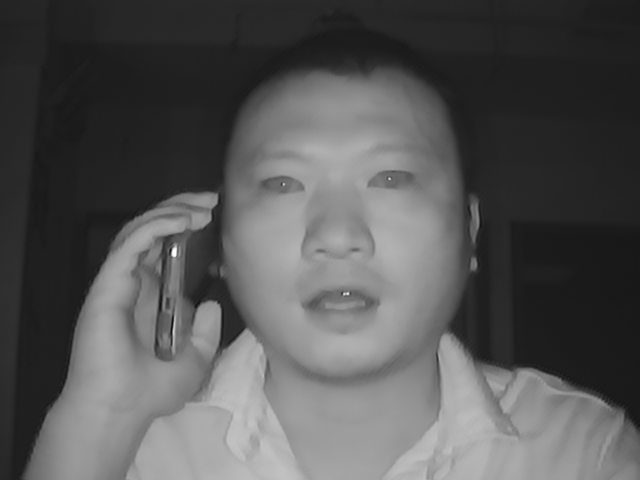hand: (76, 192, 222, 405)
